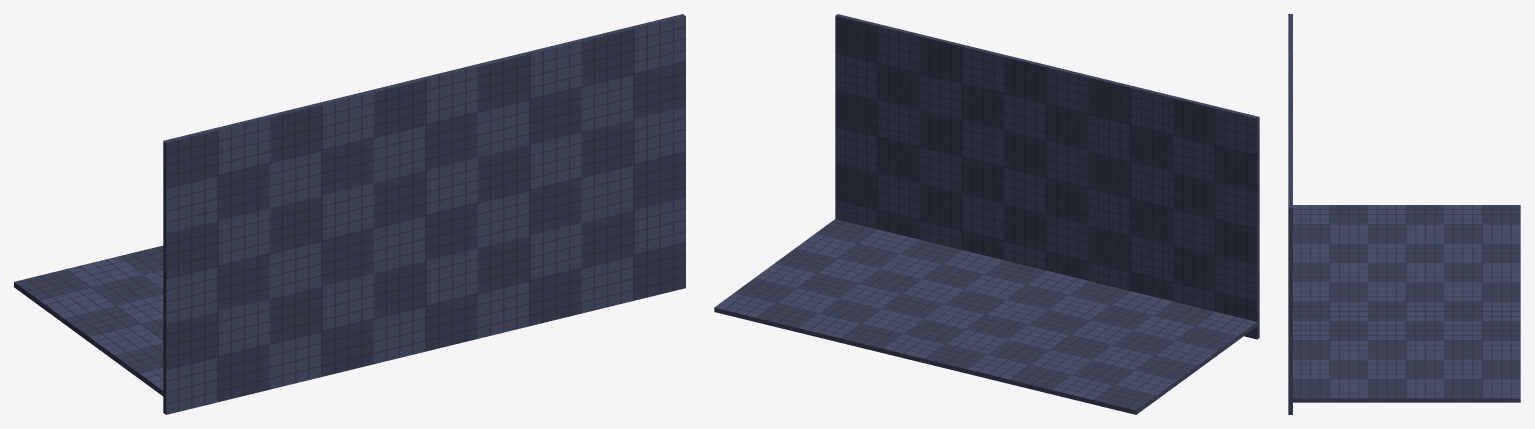
The picture shows the model from 3 angles, left to right: view 1: azimuth 30°, elevation 25°; view 2: azimuth 150°, elevation 25°; view 3: azimuth 270°, elevation 25°; orthographic projection. The views are drawn at different scales.
Parts seen in each view (by area): view 1: BG_Btm; view 2: BG_Btm; view 3: BG_Btm.
Part boxes in pixels (x1,y1,x2,y2): BG_Btm: (14, 14, 685, 414); BG_Btm: (714, 14, 1259, 414); BG_Btm: (1288, 14, 1520, 414).
Size of the model in its own units: 3000 by 1500 by 1521.
